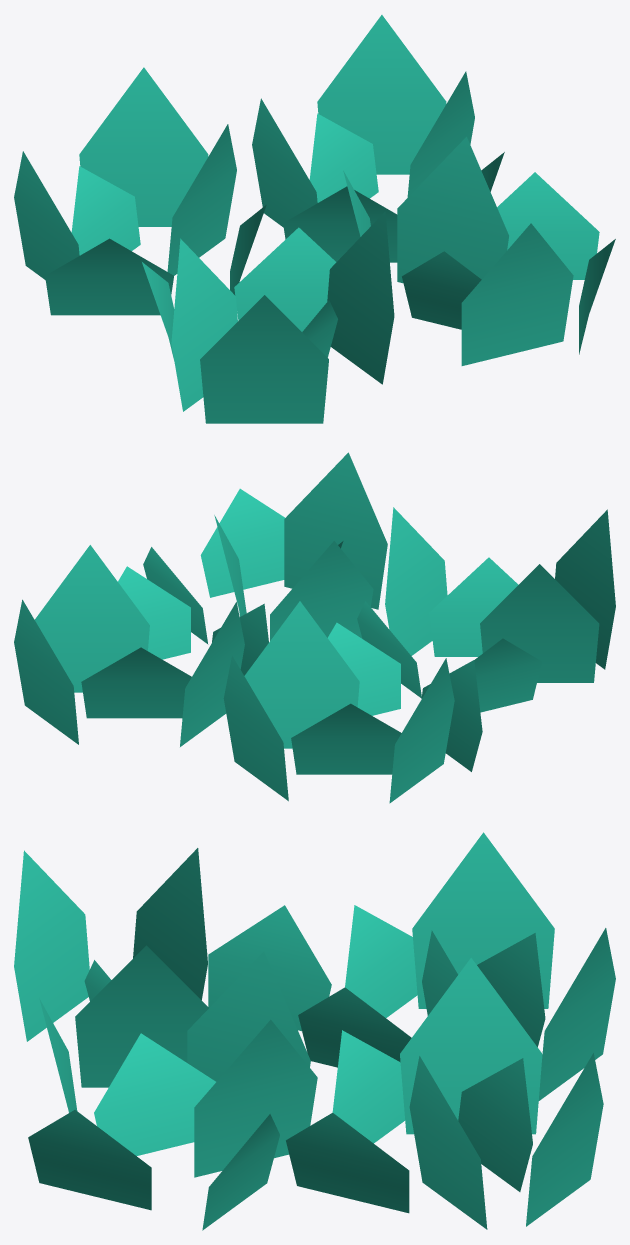
File: Grass Leafs Large.glb
The picture shows the model from 3 angles, top to bottom: view 1: azimuth 30°, elevation 25°; view 2: azimuth 150°, elevation 25°; view 3: azimuth 270°, elevation 25°; orthographic projection. The views are drawn at different scales.
Visible parts, largest first — view 1: grass_leafsLarge; view 2: grass_leafsLarge; view 3: grass_leafsLarge.
Boxes of the visible parts, box(x1,y1,x2,y2) form: grass_leafsLarge: box(14, 15, 615, 423); grass_leafsLarge: box(14, 452, 615, 803); grass_leafsLarge: box(14, 832, 615, 1230).
Bounding box in the file's own units: 0.4759 × 0.1425 × 0.4873.
